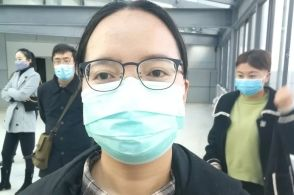mask: (88, 15, 181, 160), (235, 61, 264, 100), (52, 53, 76, 83), (14, 50, 30, 73)
